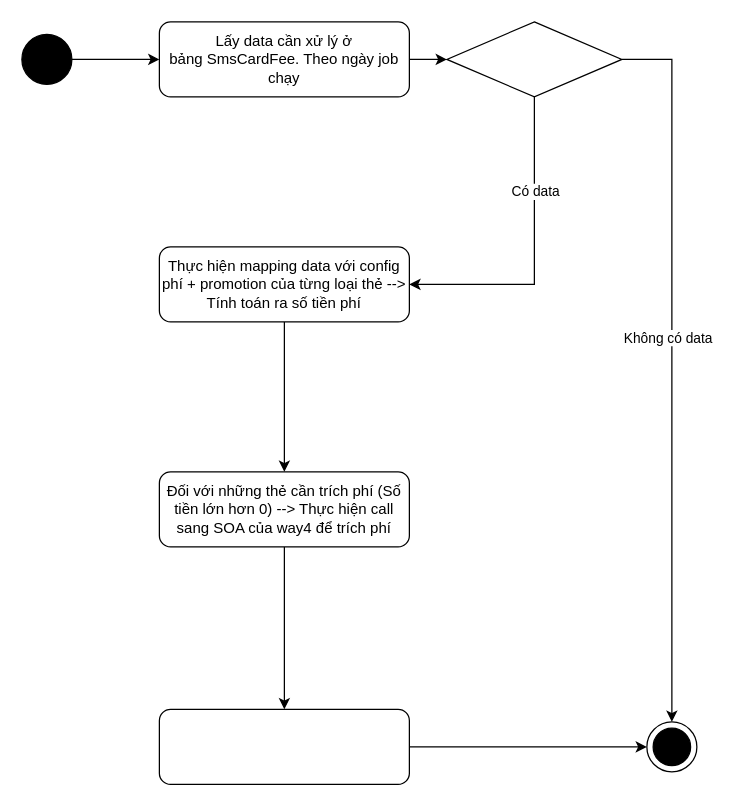
This 734x806 diagram has some shape labels left out. Each missing label, with the centre of its shape:
"Cập nhật thông tin kết quả thu phí vào database (Bảng SmsCardFee)" belongs at (283,746).
"Kiểm tra xem có data không?" belongs at (534,59).
